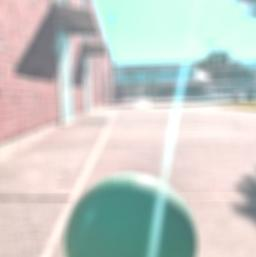algae: (62, 169, 200, 257)
